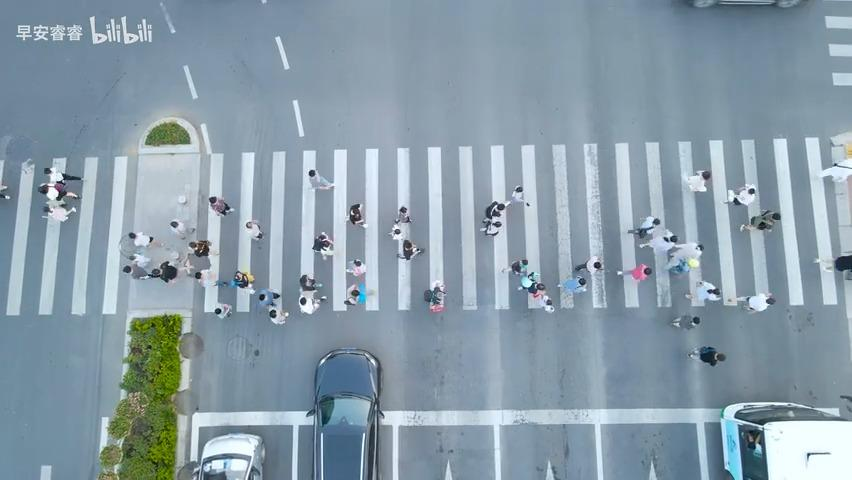Civilian: (291, 289, 326, 321), (112, 259, 144, 292), (526, 283, 556, 317), (340, 278, 377, 305), (813, 254, 851, 280), (689, 277, 722, 306), (188, 267, 222, 295), (739, 209, 780, 232), (37, 181, 81, 202), (650, 225, 680, 255), (210, 300, 241, 328), (736, 291, 775, 312), (687, 345, 725, 366), (678, 236, 705, 265), (627, 215, 660, 238), (484, 199, 505, 235), (721, 184, 756, 205), (43, 166, 84, 183), (153, 263, 177, 292), (42, 202, 76, 222), (128, 231, 163, 249), (427, 280, 446, 312), (616, 263, 651, 280), (307, 168, 334, 190), (684, 170, 710, 192), (188, 239, 219, 257), (574, 255, 603, 274), (208, 195, 234, 216), (263, 307, 287, 329), (169, 219, 195, 239), (670, 313, 700, 330), (501, 258, 528, 276), (557, 276, 587, 292), (745, 429, 763, 455), (509, 185, 530, 207), (834, 254, 851, 280), (402, 239, 423, 260), (348, 203, 366, 227), (312, 231, 333, 251), (245, 219, 264, 241), (299, 273, 322, 291), (258, 288, 280, 306), (346, 258, 366, 276), (233, 270, 254, 287), (344, 283, 360, 304), (387, 223, 405, 240), (394, 206, 411, 223), (0, 180, 10, 199)
